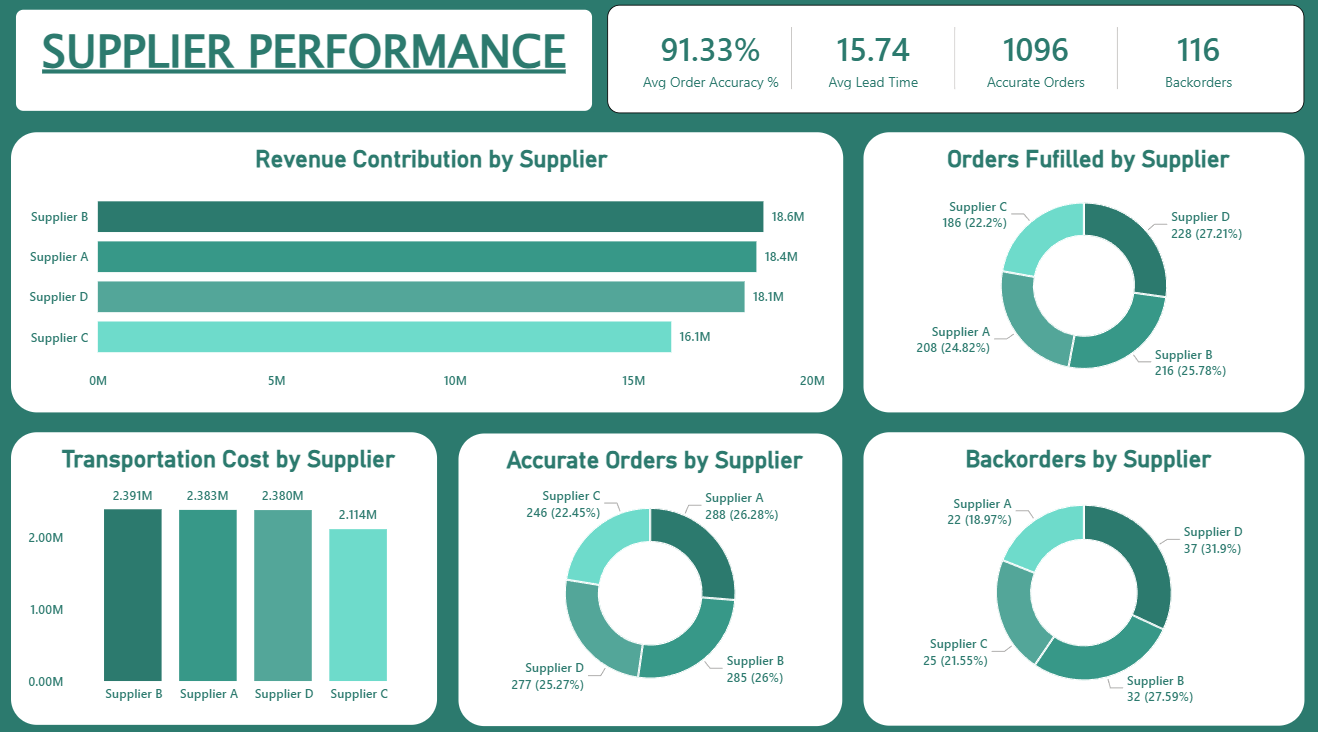

The dashboard page shown, as its layout file describes it:
{"tool":"powerbi","page":{"name":"SUPPLIER PERFORMANCE","canvas":[1280,720],"ordinal":1},"visuals":[{"type":"clusteredColumnChart","title":"Transportation Cost by Supplier","fields":{"Category":["inventory_operations.supplier"],"Y":["Sum(inventory_operations.transportation_cost)"]},"box":[14.5,425.9,411.4,282.3],"z":0},{"type":"barChart","title":"Revenue Contribution by Supplier","fields":{"Category":["inventory_operations.supplier"],"Y":["Sum(inventory_operations.Cost of Goods Sold (COGS))"]},"box":[14.5,136.3,803.5,270.2],"z":1000},{"type":"donutChart","title":"Orders Fufilled by Supplier","fields":{"Category":["inventory_operations.supplier"],"Y":["inventory_operations.Orders Fufilled"]},"box":[837.3,136.3,425.9,270.2],"z":2000},{"type":"donutChart","title":"Backorders by Supplier","fields":{"Category":["inventory_operations.supplier"],"Y":["inventory_operations.Total Backorders"]},"box":[837.3,425.9,425.9,283.5],"z":3000},{"type":"donutChart","title":"Accurate Orders by Supplier","fields":{"Category":["inventory_operations.supplier"],"Y":["inventory_operations.Accurate Orders"]},"box":[446.4,427.1,370.4,282.3],"z":6000},{"type":"textbox","box":[14.5,13.3,565.8,107.4],"z":10000},{"type":"cardVisual","fields":{"Data":["inventory_operations.Avg Order Accuracy %","inventory_operations.Avg Lead Time","inventory_operations.Accurate Orders","inventory_operations.Backorders"]},"box":[589.9,13.3,673.2,105],"z":11000}]}

Visuals, with their boxes in screenshot pixels (x1, y1, x2, y2), scaled from the page's 1280x720 canvas onto the 1318x732 screenshot:
"Transportation Cost by Supplier" clusteredColumnChart: <bbox>15, 433, 439, 720</bbox>
"Revenue Contribution by Supplier" barChart: <bbox>15, 139, 842, 413</bbox>
"Orders Fufilled by Supplier" donutChart: <bbox>862, 139, 1301, 413</bbox>
"Backorders by Supplier" donutChart: <bbox>862, 433, 1301, 721</bbox>
"Accurate Orders by Supplier" donutChart: <bbox>460, 434, 841, 721</bbox>
textbox: <bbox>15, 14, 598, 123</bbox>
cardVisual - inventory_operations.Avg Order Accuracy % x inventory_operations.Avg Lead Time: <bbox>607, 14, 1301, 120</bbox>
